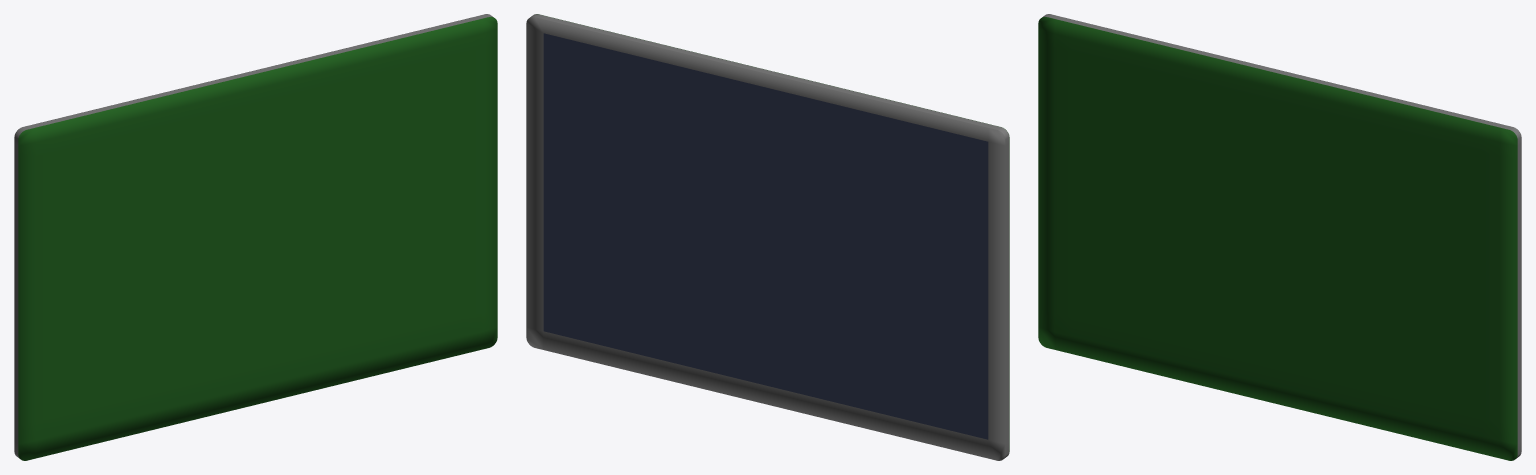
The model's file is laptopust.fbx.
The picture shows the model from 3 angles, left to right: view 1: azimuth 30°, elevation 25°; view 2: azimuth 150°, elevation 25°; view 3: azimuth 330°, elevation 25°; orthographic projection.
Visible parts, largest first — view 1: macBook_TopPart.003; view 2: macBook_TopPart.003; view 3: macBook_TopPart.003.
Part boxes in pixels (x1=…): macBook_TopPart.003: x1=14, y1=14, x2=497, y2=460; macBook_TopPart.003: x1=526, y1=14, x2=1009, y2=460; macBook_TopPart.003: x1=1038, y1=14, x2=1521, y2=460.
Bounding box in the file's own units: 3.44 × 2.27 × 0.0606.
